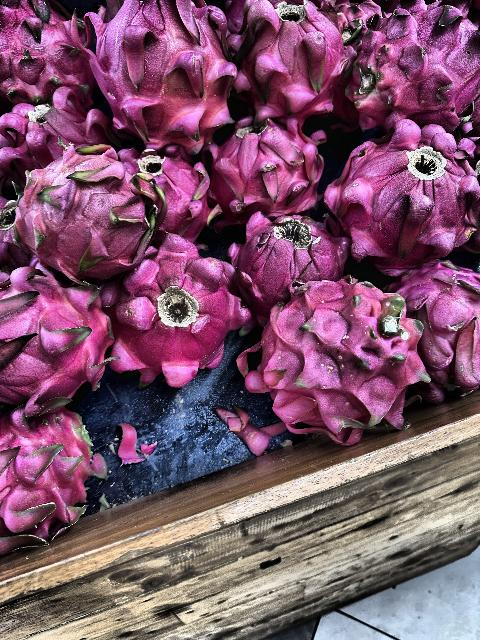buah-naga-matang: (256, 272, 426, 432), (318, 120, 480, 262), (78, 3, 234, 142), (110, 241, 246, 381), (17, 140, 153, 270), (0, 268, 116, 409), (348, 4, 480, 126), (0, 402, 102, 556), (236, 1, 356, 118), (211, 106, 325, 218), (394, 258, 480, 399), (230, 214, 357, 292), (3, 86, 117, 172), (122, 141, 216, 241), (0, 0, 90, 96)
